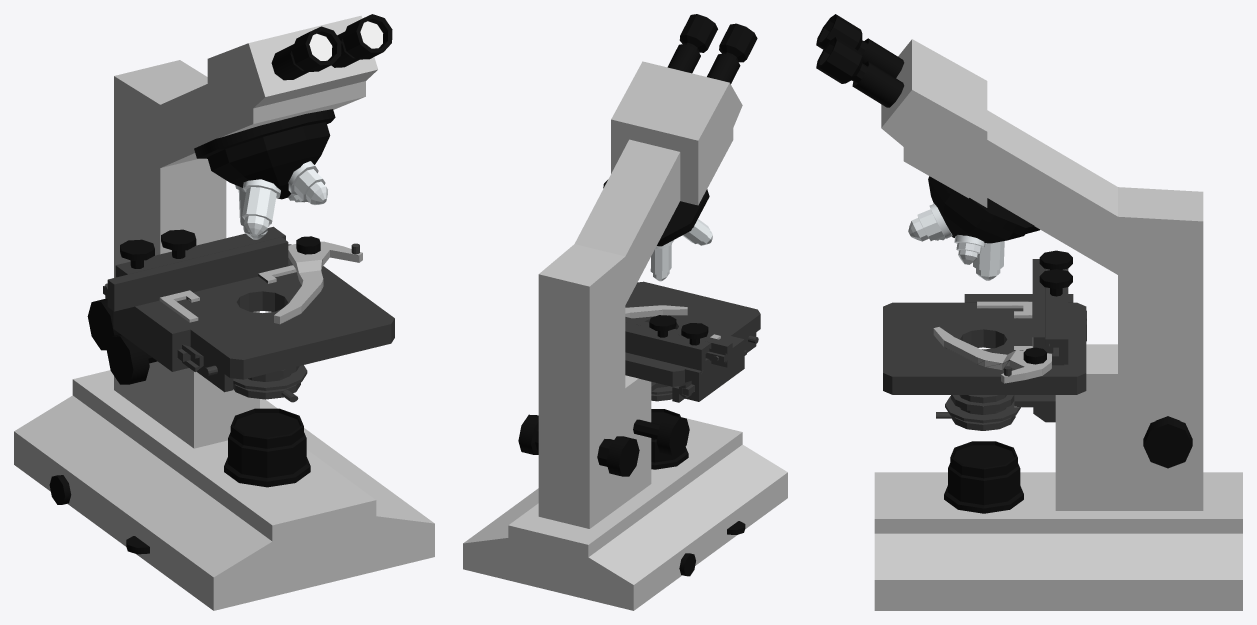
Rendered from Microscope_one.FBX.
The picture shows the model from 3 angles, left to right: view 1: azimuth 30°, elevation 25°; view 2: azimuth 150°, elevation 25°; view 3: azimuth 270°, elevation 25°; orthographic projection. The views are drawn at different scales.
Visible parts, largest first — view 1: Microscope body, Microscope plate, Cylinder540, M_bodyAdjuster, microscope lense003, microscope lense2, m_button2, Micadjuster1, Micadjuster2, m_button3, m_button5, m_button4; view 2: Microscope body, Microscope plate, microscope lense2, microscope lense003, m_button2, m_button3, Cylinder540, M_bodyAdjuster, m_button6, Micadjuster3, Micadjuster1, m_button4 (+1 smaller); view 3: Microscope body, Microscope plate, M_bodyAdjuster, Cylinder540, microscope lense2, m_button6, microscope lense003, Micadjuster2, Micadjuster3, m_button5, Micadjuster4.
Part boxes in pixels (x1=…): Microscope body: x1=14, y1=15, x2=434, y2=610; Microscope plate: x1=103, y1=226, x2=394, y2=402; Cylinder540: x1=194, y1=109, x2=335, y2=199; M_bodyAdjuster: x1=224, y1=408, x2=310, y2=487; microscope lense003: x1=271, y1=26, x2=341, y2=80; microscope lense2: x1=331, y1=14, x2=392, y2=67; m_button2: x1=107, y1=334, x2=157, y2=384; Micadjuster1: x1=242, y1=179, x2=280, y2=236; Micadjuster2: x1=288, y1=161, x2=327, y2=204; m_button3: x1=87, y1=298, x2=120, y2=350; m_button5: x1=161, y1=229, x2=196, y2=258; m_button4: x1=120, y1=239, x2=154, y2=268; Microscope body: x1=463, y1=61, x2=787, y2=610; Microscope plate: x1=625, y1=281, x2=760, y2=402; microscope lense2: x1=667, y1=14, x2=717, y2=73; microscope lense003: x1=707, y1=23, x2=757, y2=84; m_button2: x1=633, y1=415, x2=689, y2=455; m_button3: x1=597, y1=436, x2=639, y2=476; Cylinder540: x1=603, y1=180, x2=709, y2=246; M_bodyAdjuster: x1=651, y1=409, x2=688, y2=469; m_button6: x1=518, y1=414, x2=538, y2=454; Micadjuster3: x1=650, y1=240, x2=673, y2=281; Micadjuster1: x1=682, y1=219, x2=712, y2=245; m_button4: x1=681, y1=323, x2=708, y2=345; Microscope body: x1=874, y1=39, x2=1242, y2=610; Microscope plate: x1=883, y1=259, x2=1086, y2=430; M_bodyAdjuster: x1=944, y1=441, x2=1023, y2=513; Cylinder540: x1=928, y1=176, x2=1039, y2=243; microscope lense2: x1=816, y1=37, x2=904, y2=107; m_button6: x1=1143, y1=416, x2=1192, y2=468; microscope lense003: x1=816, y1=14, x2=904, y2=77; Micadjuster2: x1=908, y1=203, x2=952, y2=241; Micadjuster3: x1=973, y1=241, x2=1004, y2=280; m_button5: x1=1039, y1=269, x2=1072, y2=296; Micadjuster4: x1=954, y1=235, x2=985, y2=264.
Size of the model in its own units: 17.32 by 40.56 by 29.43.
6 materials, 1 textured.
